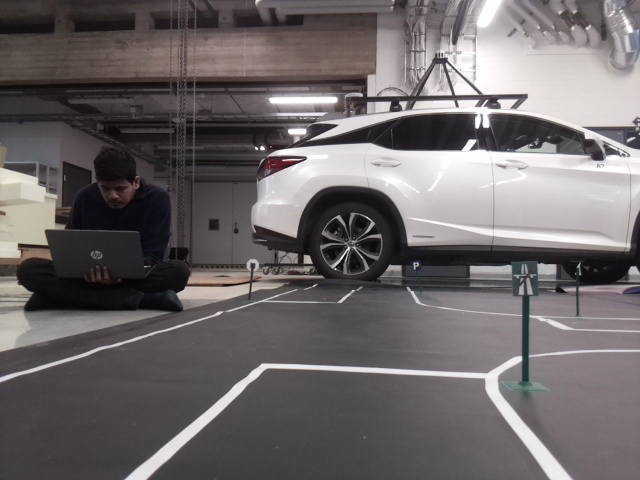HighwayExit: (512, 262, 535, 293)
